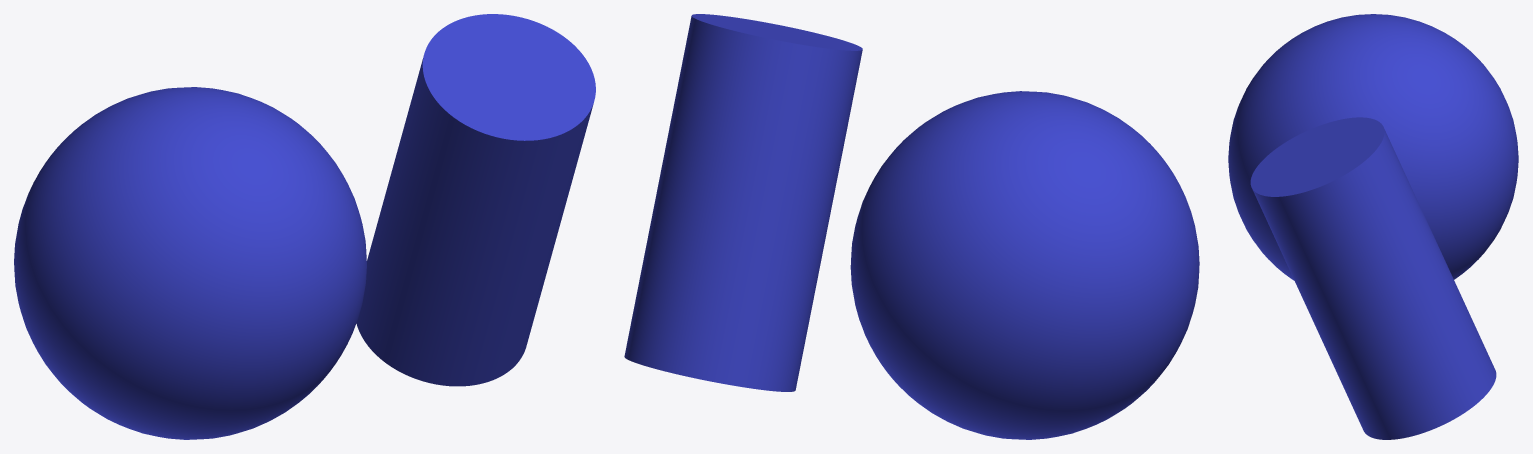
The picture shows the model from 3 angles, left to right: view 1: azimuth 30°, elevation 25°; view 2: azimuth 150°, elevation 25°; view 3: azimuth 270°, elevation 25°; orthographic projection. The views are drawn at different scales.
Visible parts, largest first — view 1: root (×2); view 2: root (×2); view 3: root (×2).
Part boxes in pixels (x1,y1,x2,y2): root (×2): [14, 14, 595, 439]; root (×2): [624, 14, 1199, 439]; root (×2): [1228, 14, 1518, 439].
Bounding box in the file's own units: 0.3363 × 0.2231 × 0.2.
